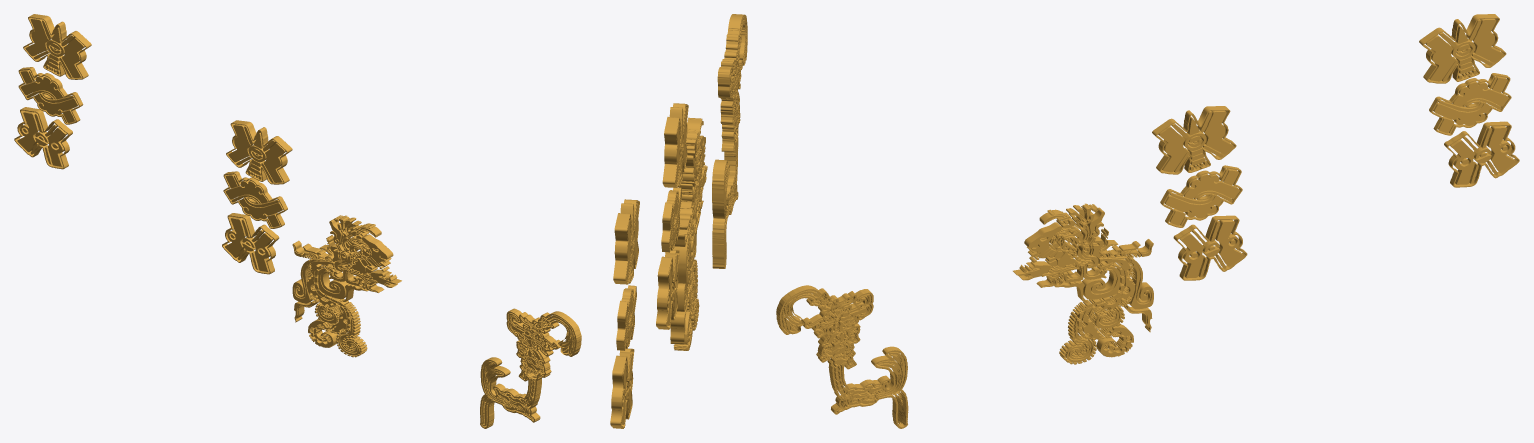
Rendered from dmlartwalll9.glb.
3 renders of one model, left to right at view 1: azimuth 30°, elevation 25°; view 2: azimuth 150°, elevation 25°; view 3: azimuth 270°, elevation 25°, orthographic. The views are drawn at different scales.
Visible parts, largest first — view 1: Selection.007, Selection #2.003, Selection #1.003, Selection #1.006, Selection.011, Selection.022, Selection.008, Selection.021; view 2: Selection #2.003, Selection.007, Selection #1.003, Selection #1.006, Selection.011, Selection.022, Selection.008, Selection.021; view 3: Selection.007, Selection #2.003, Selection #1.003, Selection #1.006, Selection.011, Selection.022, Selection.008, Selection.021.
Boxes of the visible parts, x1,y1,x2,y2 form: Selection.007: [292, 215, 401, 357]; Selection #2.003: [480, 308, 581, 428]; Selection #1.003: [23, 14, 91, 79]; Selection #1.006: [226, 120, 292, 184]; Selection.011: [14, 107, 72, 169]; Selection.022: [222, 213, 279, 274]; Selection.008: [18, 67, 83, 124]; Selection.021: [223, 171, 287, 228]; Selection #2.003: [712, 14, 747, 268]; Selection.007: [670, 117, 707, 350]; Selection #1.003: [613, 199, 639, 284]; Selection #1.006: [662, 103, 688, 187]; Selection.011: [610, 348, 634, 428]; Selection.022: [656, 250, 679, 329]; Selection.008: [616, 285, 636, 350]; Selection.021: [661, 187, 681, 252]; Selection.007: [1013, 203, 1153, 364]; Selection #2.003: [776, 285, 908, 428]; Selection #1.003: [1419, 14, 1506, 83]; Selection #1.006: [1152, 106, 1236, 174]; Selection.011: [1444, 121, 1519, 187]; Selection.022: [1173, 215, 1247, 280]; Selection.008: [1429, 73, 1511, 135]; Selection.021: [1160, 165, 1242, 227].
Bounding box in the file's own units: 0.6542 × 0.6921 × 1.52.
